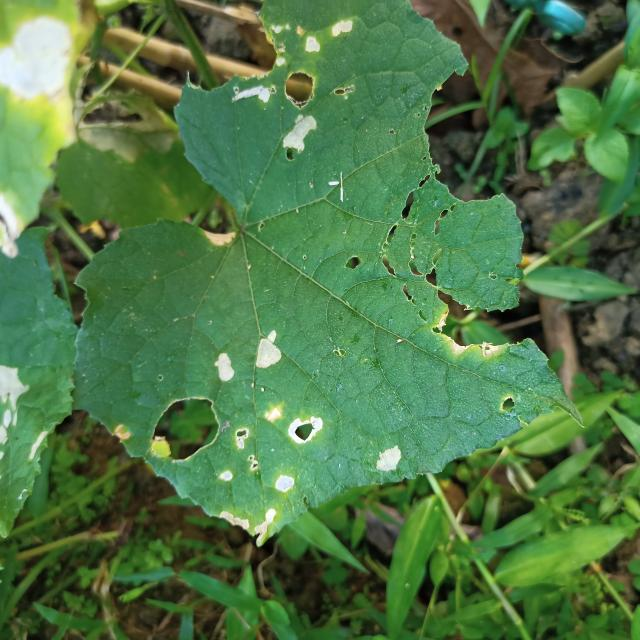disease_cucumber: (214, 398, 408, 539), (230, 19, 368, 163), (208, 324, 288, 393)
